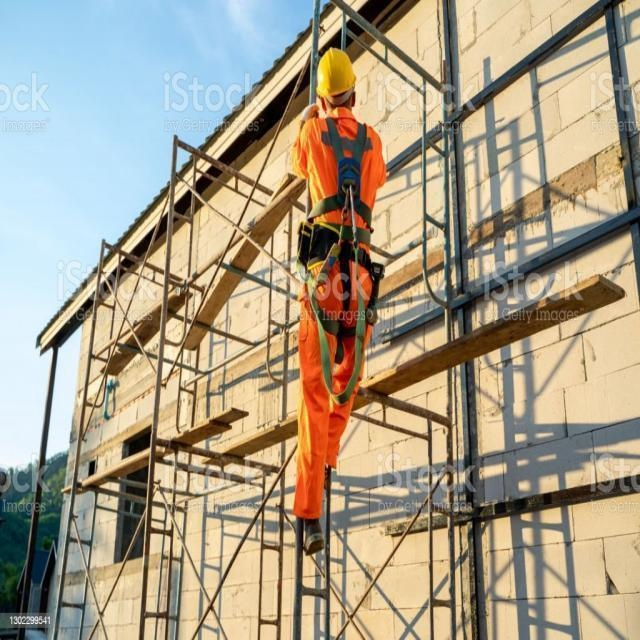Arnes_seguridad: (300, 119, 381, 346)
